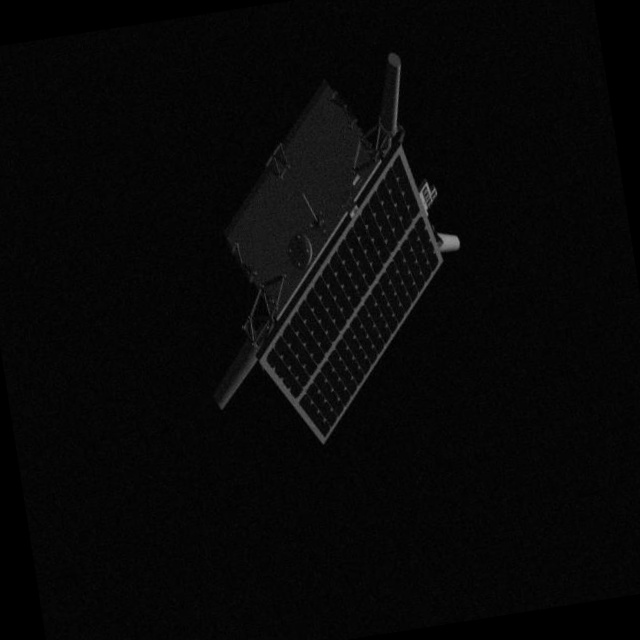satellite: (154, 40, 501, 474)
